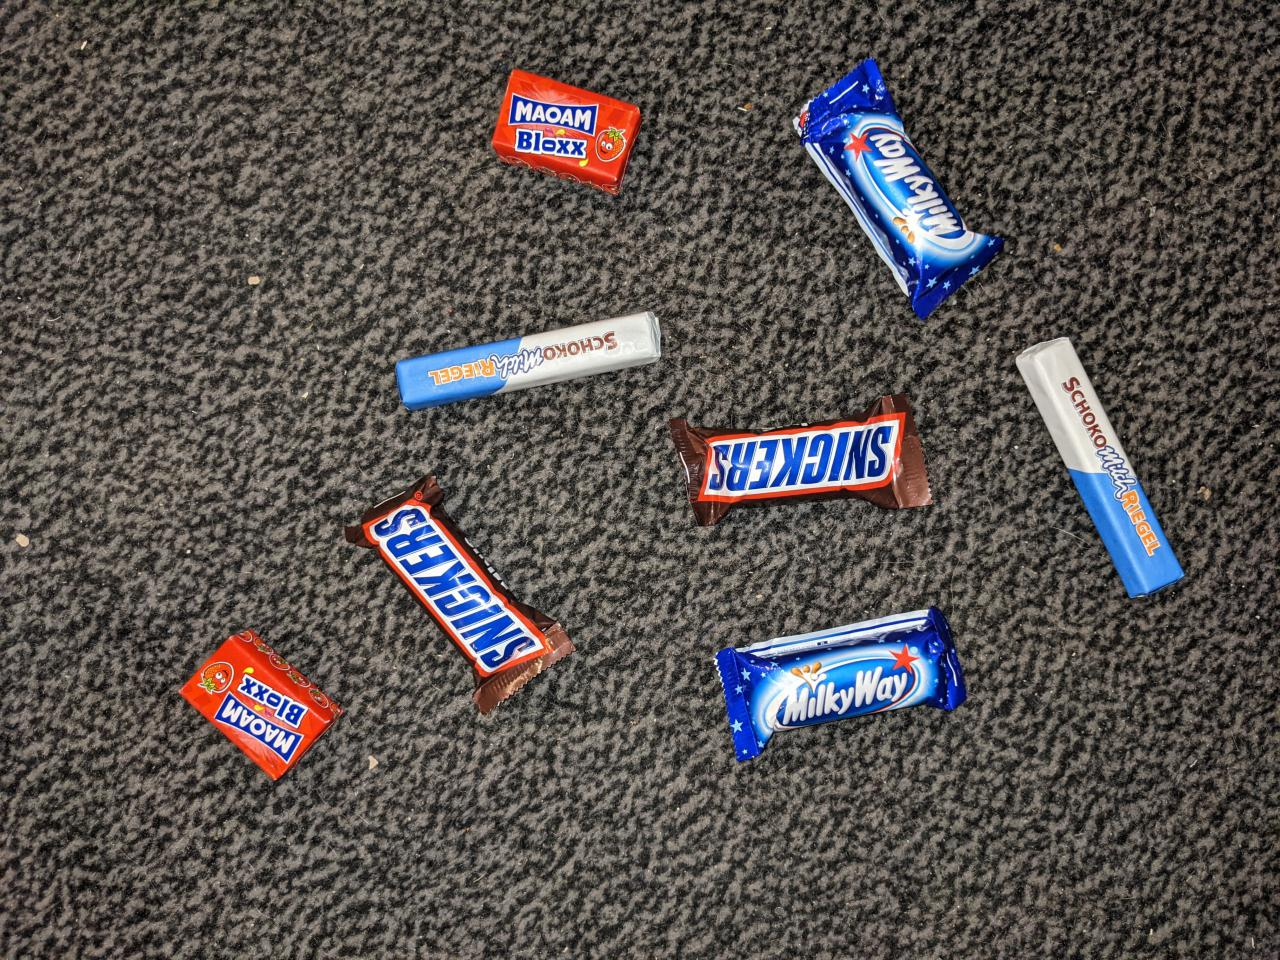MAOAM: (173, 624, 349, 786), (484, 64, 646, 200)
MilkyWay: (787, 54, 1010, 328), (707, 602, 971, 767)
Schokoriegel: (1009, 332, 1188, 600), (389, 305, 671, 416)
Snickers: (341, 466, 583, 719), (662, 386, 941, 531)
